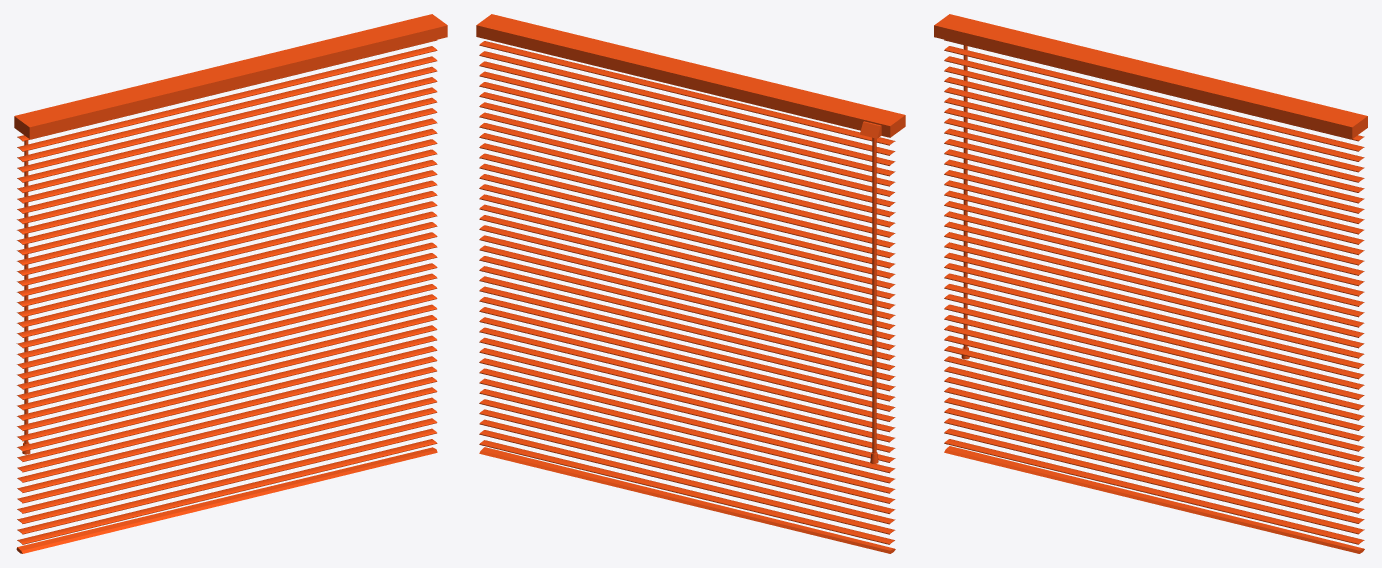
Rendered from STORES_fenetre_deplies.FBX.
3 renders of one model, left to right at view 1: azimuth 30°, elevation 25°; view 2: azimuth 150°, elevation 25°; view 3: azimuth 330°, elevation 25°, orthographic.
Visible parts, largest first — view 1: stores, stores_end, Plane039, Plane004, Plane006, Plane009, Plane012, Plane014, Plane015, Plane017, Plane020, Plane022 (+31 smaller); view 2: stores, stores_end, Plane038, Plane034, Plane039, Plane037, Plane035, Plane036, Plane040, Plane033, Plane012, Plane021 (+31 smaller); view 3: stores, stores_end, Plane019, Plane022, Plane024, Plane030, Plane033, Plane003, Plane004, Plane013, Plane014, Plane017 (+31 smaller).
Boxes of the visible parts, <box> form: stores: <box>14,14,447,138</box>; stores_end: <box>16,447,437,553</box>; Plane039: <box>17,428,436,534</box>; Plane004: <box>17,66,437,172</box>; Plane006: <box>17,87,437,192</box>; Plane009: <box>17,118,437,224</box>; Plane012: <box>17,149,437,255</box>; Plane014: <box>17,170,437,275</box>; Plane015: <box>17,180,437,286</box>; Plane017: <box>17,201,437,306</box>; Plane020: <box>17,232,437,337</box>; Plane022: <box>17,253,437,358</box>; stores: <box>476,14,905,138</box>; stores_end: <box>479,447,895,553</box>; Plane038: <box>479,419,895,524</box>; Plane034: <box>479,378,894,483</box>; Plane039: <box>479,430,895,534</box>; Plane037: <box>479,409,895,513</box>; Plane035: <box>479,389,895,493</box>; Plane036: <box>479,399,895,503</box>; Plane040: <box>479,440,894,544</box>; Plane033: <box>479,368,895,473</box>; Plane012: <box>479,153,895,258</box>; Plane021: <box>479,245,895,350</box>; stores: <box>934,14,1367,138</box>; stores_end: <box>944,446,1364,553</box>; Plane019: <box>944,221,1364,327</box>; Plane022: <box>944,252,1364,358</box>; Plane024: <box>944,273,1364,379</box>; Plane030: <box>944,335,1364,441</box>; Plane033: <box>944,366,1364,472</box>; Plane003: <box>944,56,1364,161</box>; Plane004: <box>944,66,1364,172</box>; Plane013: <box>944,159,1364,265</box>; Plane014: <box>944,170,1364,275</box>; Plane017: <box>944,201,1364,306</box>.
Bounding box in the file's own units: 42.92 × 42.6 × 3.56.
